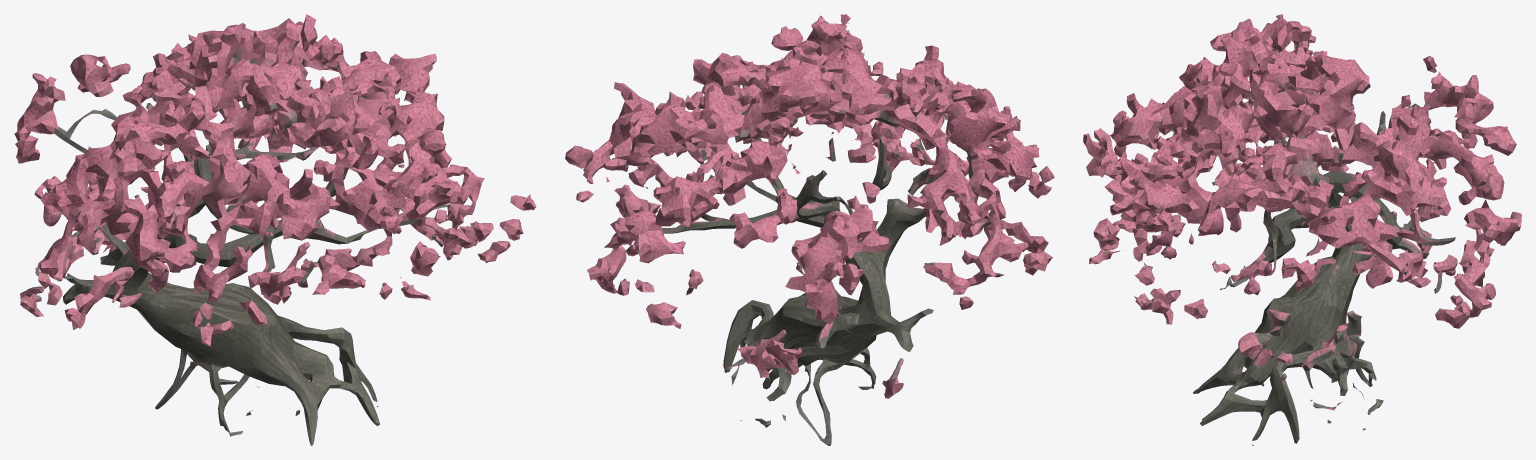
Rendered from Meshy_AI_Floating_Sakura_Bonsa_1004150818_texture.glb.
3 renders of one model, left to right at view 1: azimuth 30°, elevation 25°; view 2: azimuth 150°, elevation 25°; view 3: azimuth 270°, elevation 25°, orthographic. The views are drawn at different scales.
Visible parts, largest first — view 1: Mesh_0; view 2: Mesh_0; view 3: Mesh_0.
Boxes of the visible parts, x1,y1,x2,y2 form: Mesh_0: (14, 14, 536, 445); Mesh_0: (565, 14, 1054, 445); Mesh_0: (1083, 14, 1521, 445).
Bounding box in the file's own units: 1.85 × 1.58 × 1.73.
1 material, 1 textured.
